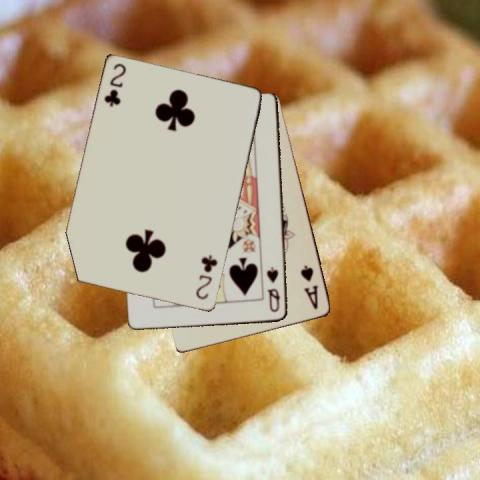2c: (101, 60, 128, 109), (193, 252, 219, 301)
As: (298, 262, 320, 311)
Qs: (264, 264, 282, 313)
